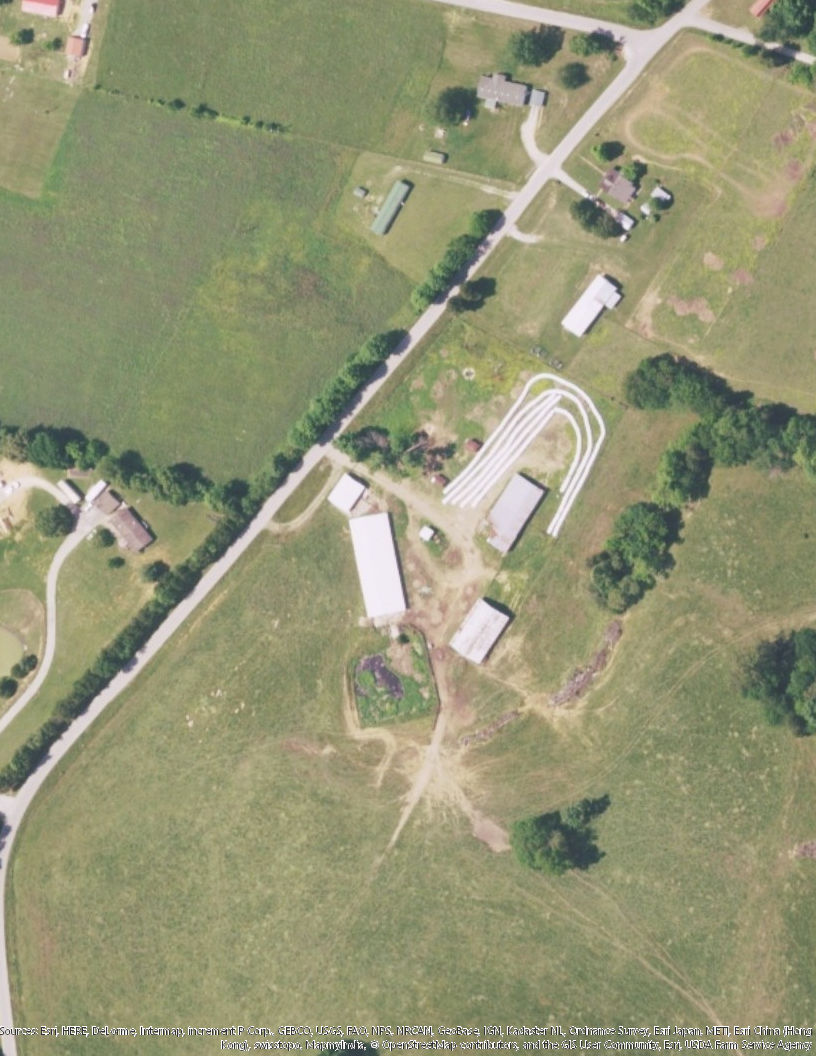cafo: (341, 509, 409, 624), (478, 469, 550, 552), (445, 596, 519, 669), (556, 269, 624, 340)
